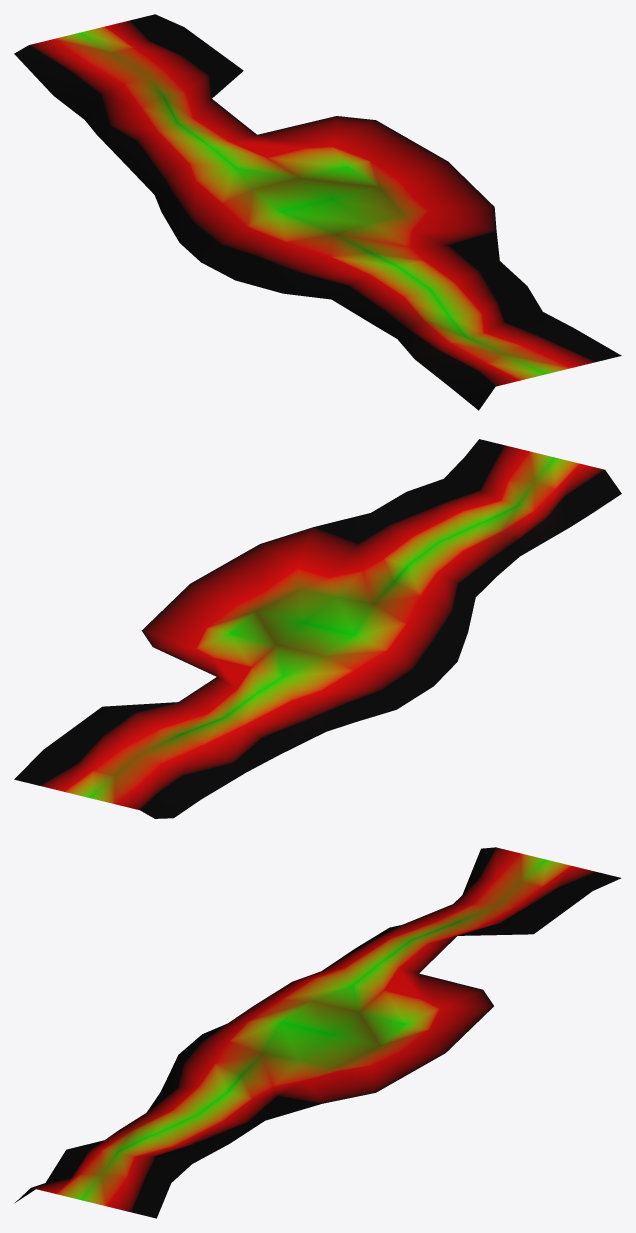
File: Section_MiniBossWayLine01_Mountains_Terrain.fbx
The picture shows the model from 3 angles, top to bottom: view 1: azimuth 30°, elevation 25°; view 2: azimuth 150°, elevation 25°; view 3: azimuth 330°, elevation 25°; orthographic projection.
Visible parts, largest first — view 1: Section_MiniBossWayLine01_Mountains_Terrain; view 2: Section_MiniBossWayLine01_Mountains_Terrain; view 3: Section_MiniBossWayLine01_Mountains_Terrain.
Part boxes in pixels (left/top/right/bottom): Section_MiniBossWayLine01_Mountains_Terrain: left=14, top=14, right=621, bottom=410; Section_MiniBossWayLine01_Mountains_Terrain: left=14, top=439, right=621, bottom=818; Section_MiniBossWayLine01_Mountains_Terrain: left=15, top=847, right=621, bottom=1218.
Bounding box in the file's own units: 2432 × 462 × 8000.
